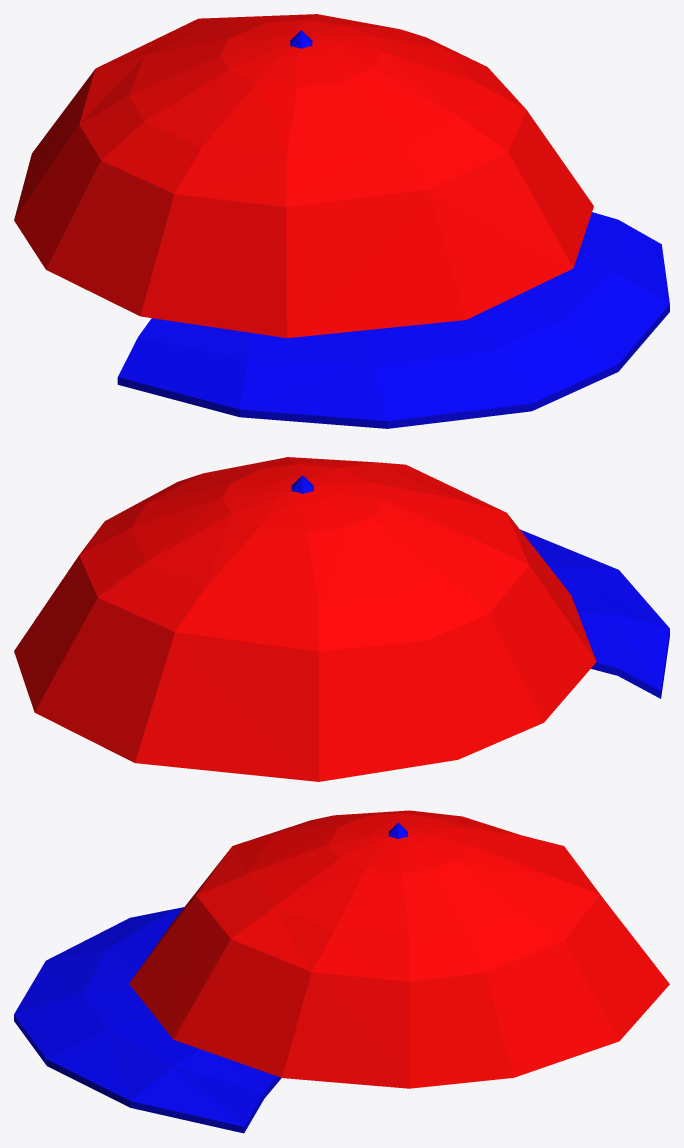
The model's file is head_cap_01.glb.
3 views of the same model, one above another, from view 1: azimuth 30°, elevation 25°; view 2: azimuth 150°, elevation 25°; view 3: azimuth 270°, elevation 25° (orthographic). The views are drawn at different scales.
Visible parts, largest first — view 1: head_cap_01; view 2: head_cap_01; view 3: head_cap_01.
Part boxes in pixels (x1,y1,x2,y2): head_cap_01: (14,14,669,428); head_cap_01: (14,457,669,781); head_cap_01: (14,810,669,1133).
Size of the model in its own units: 0.3321 by 0.1305 by 0.3975.
1 material, 1 textured.
